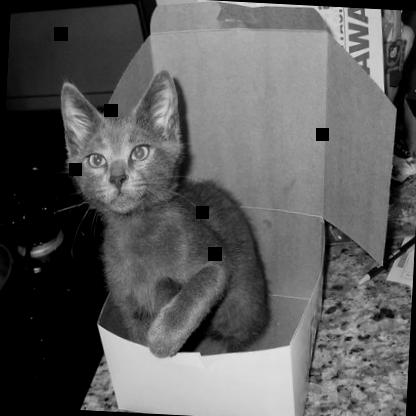cat: (46, 63, 280, 362)
